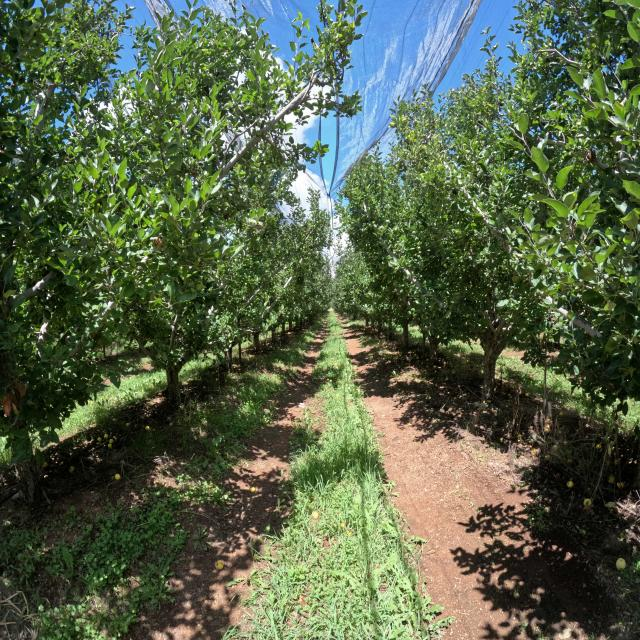-FireBlight-: (150, 233, 163, 252), (2, 398, 12, 417), (18, 384, 26, 397), (12, 403, 20, 415)
